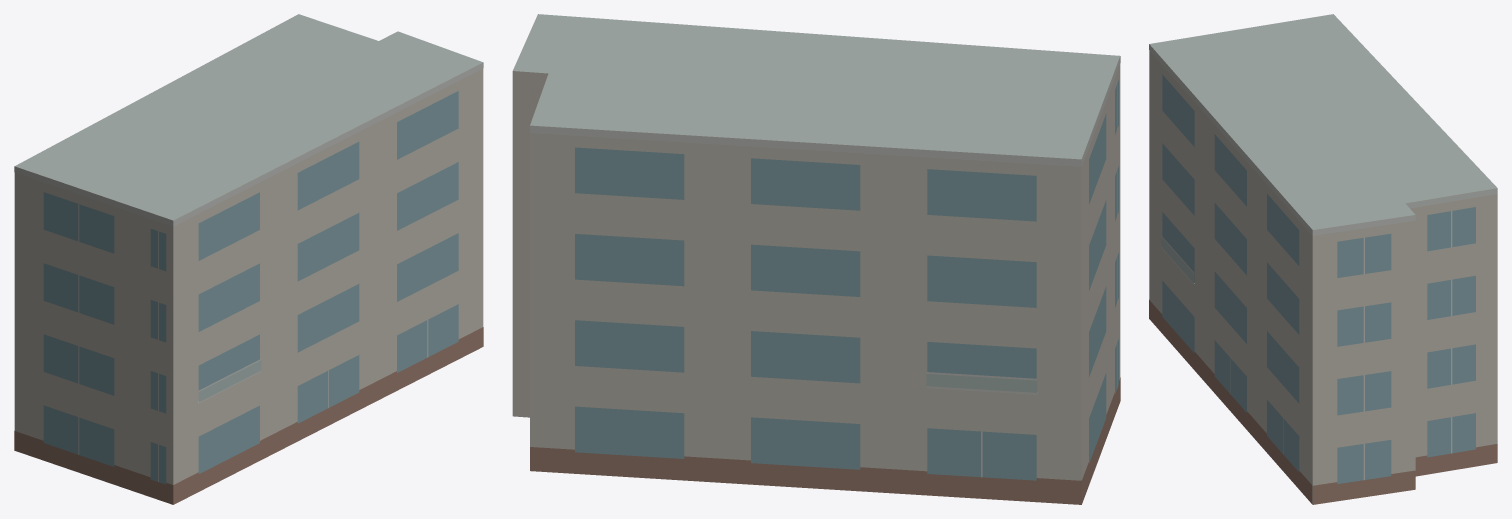
Rendered from survey-upis-32488692.glb.
3 views of the same model, side by side, from view 1: azimuth 30°, elevation 25°; view 2: azimuth 150°, elevation 25°; view 3: azimuth 270°, elevation 25° (orthographic). The views are drawn at different scales.
Parts seen in each view (by area): view 1: survey-upis-32488692.tmp; view 2: survey-upis-32488692.tmp; view 3: survey-upis-32488692.tmp.
Part boxes in pixels (x1,y1,x2,y2): survey-upis-32488692.tmp: (14,14,483,504); survey-upis-32488692.tmp: (512,14,1120,504); survey-upis-32488692.tmp: (1149,14,1497,504).
Bounding box in the file's own units: 19.32 × 11.45 × 13.17.
